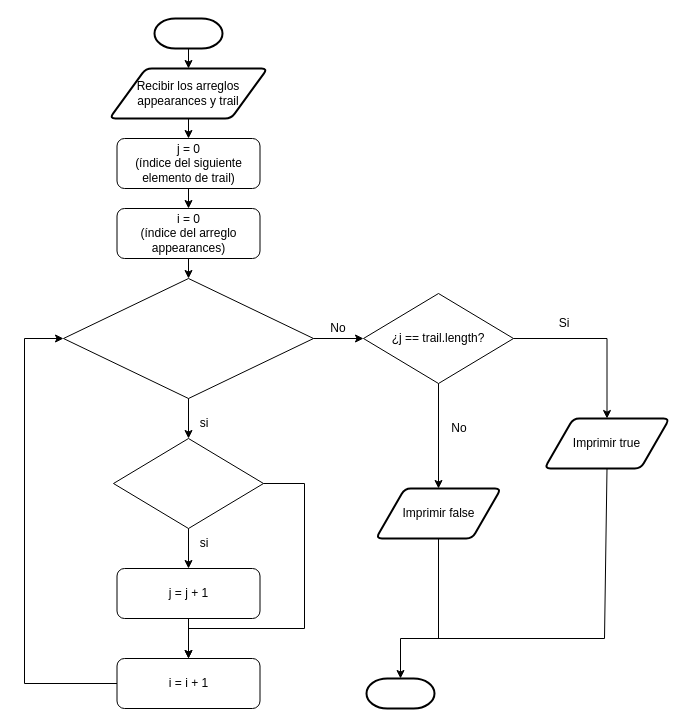
The diagram is 688 pixels wide and 726 high, and some of its shapes have lost their labels. Each missing label, with the box of its shape:
Fin: (365, 677, 435, 709)
Inicio: (153, 17, 223, 49)
¿appearances [i] == trail [j]?: (112, 438, 264, 528)
¿i < appearances.length y j < trail.length?: (62, 278, 314, 398)
